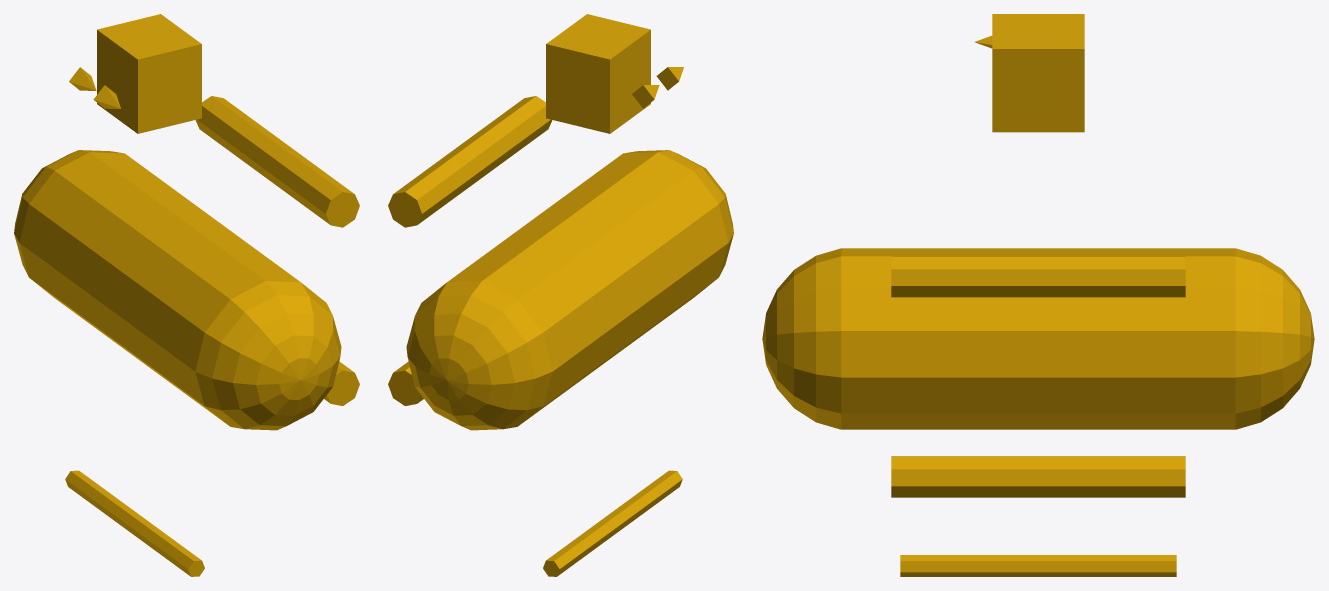
Rendered from CatLargeSenche_Wraithhaunt_Base.glb.
3 renders of one model, left to right at view 1: azimuth 30°, elevation 25°; view 2: azimuth 150°, elevation 25°; view 3: azimuth 270°, elevation 25°, orthographic. The views are drawn at different scales.
Parts seen in each view (by area): view 1: world; view 2: world; view 3: world.
Boxes of the visible parts, x1,y1,x2,y2 form: world: [14, 14, 359, 576]; world: [388, 14, 733, 576]; world: [762, 14, 1314, 576].
Size of the model in its own units: 1.81 by 4 by 3.63.
